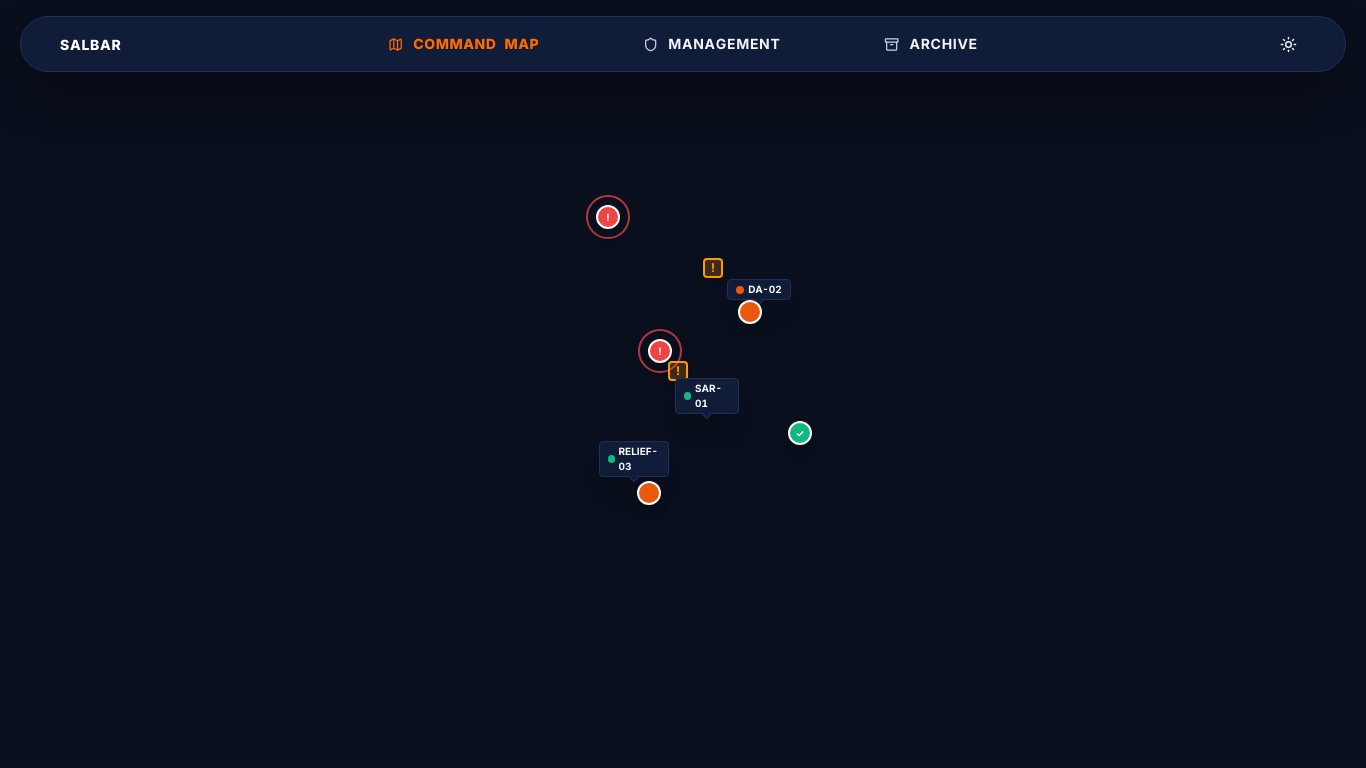
Test: Web Dashboard Screen Scaffolding › navigates to incident archive screen
Click the button with test id "nav-tab-incident-archive": (931, 44) [872,28,990,60]
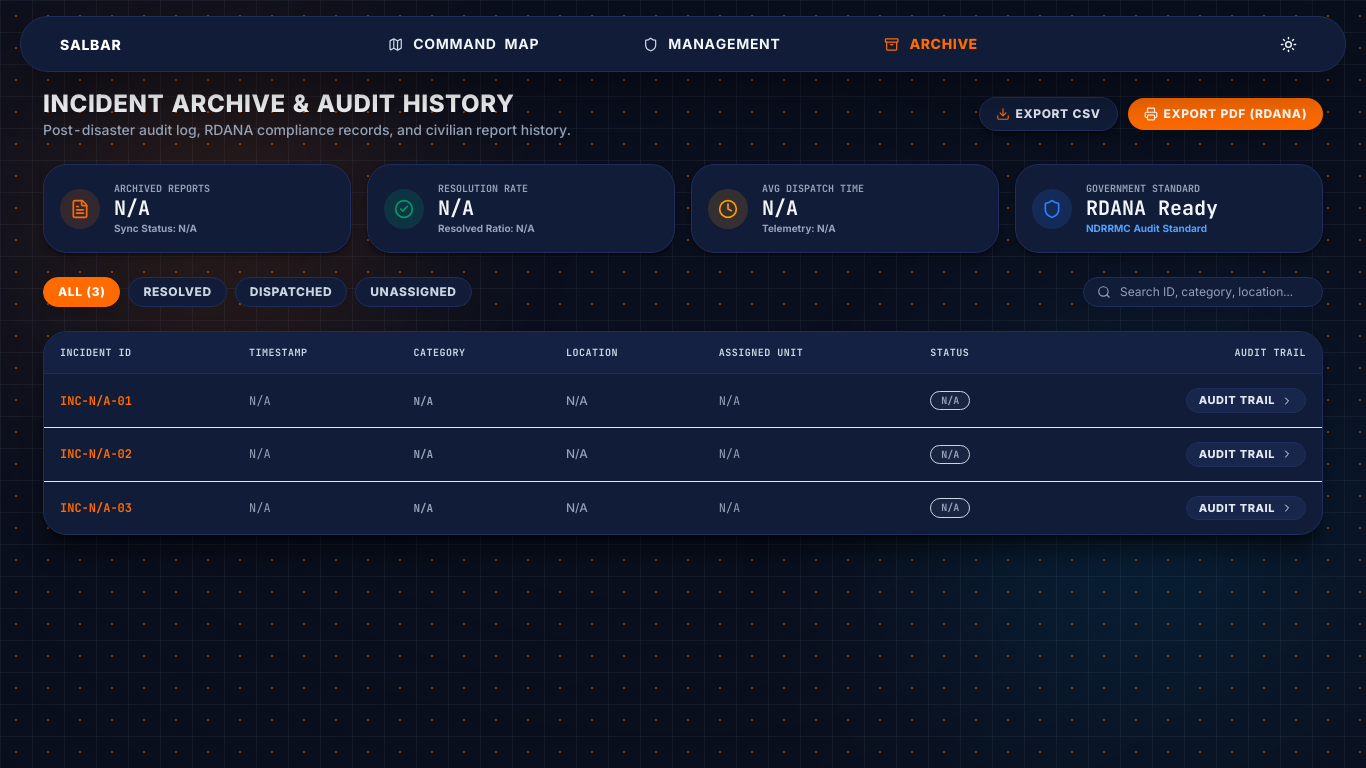
expect the element with test id "screen-incident-archive" is shown: met, box [43,89,1323,535]
expect the element with test id "archive-table-container" is shown: met, box [43,331,1323,535]
expect the element with test id "screen-command-map" is gone: met
